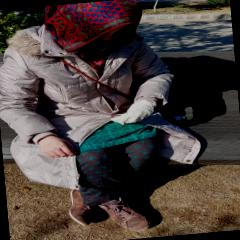gloved: (110, 100, 158, 125)
not-gloved: (36, 136, 72, 161)
